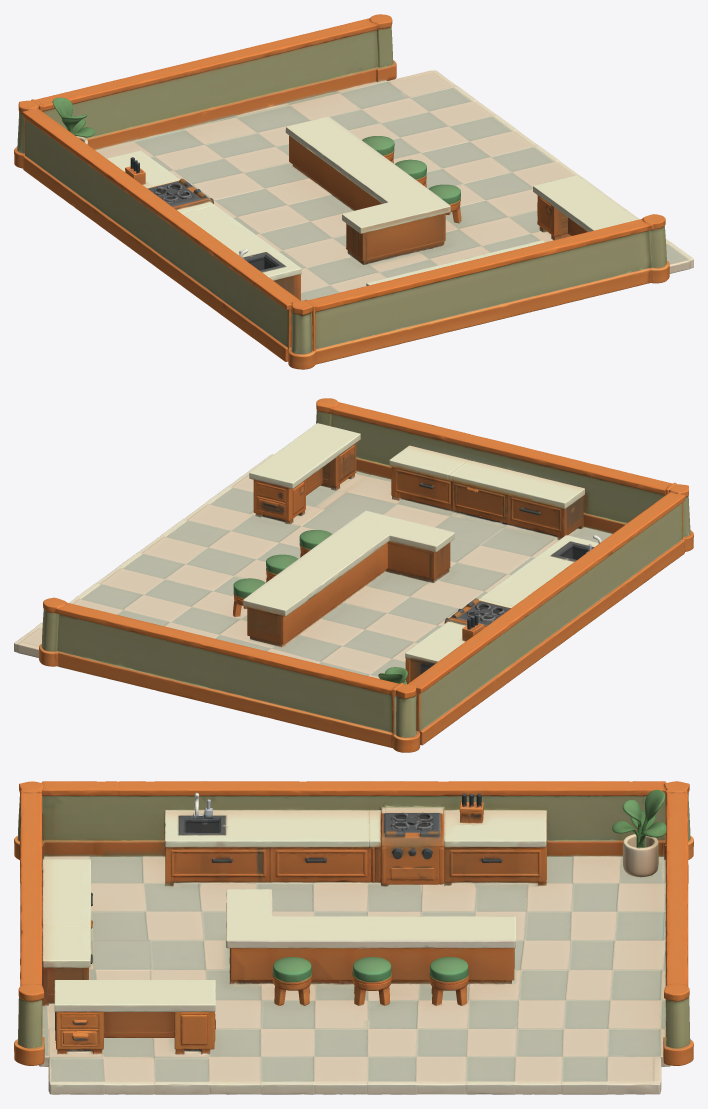
File: sushi-room-v10-fixtures-v2.glb
3 renders of one model, top to bottom at view 1: azimuth 30°, elevation 25°; view 2: azimuth 150°, elevation 25°; view 3: azimuth 270°, elevation 25°, orthographic. The views are drawn at different scales.
Parts seen in each view (by area): view 1: tripo_node_baa46c4d-e804-4763-b705-cc7467c62be8; view 2: tripo_node_baa46c4d-e804-4763-b705-cc7467c62be8; view 3: tripo_node_baa46c4d-e804-4763-b705-cc7467c62be8.
Part boxes in pixels (x1=…): tripo_node_baa46c4d-e804-4763-b705-cc7467c62be8: x1=14, y1=14, x2=693, y2=369; tripo_node_baa46c4d-e804-4763-b705-cc7467c62be8: x1=14, y1=398, x2=693, y2=752; tripo_node_baa46c4d-e804-4763-b705-cc7467c62be8: x1=14, y1=781, x2=693, y2=1094.
Bounding box in the file's own units: 6 × 0.9982 × 7.25.
2 materials, 2 textured.
